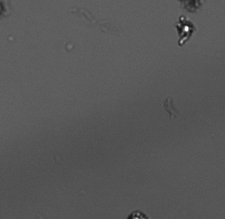Dead Cell: (182, 1, 205, 10)
Living Cell: (176, 18, 193, 38)
